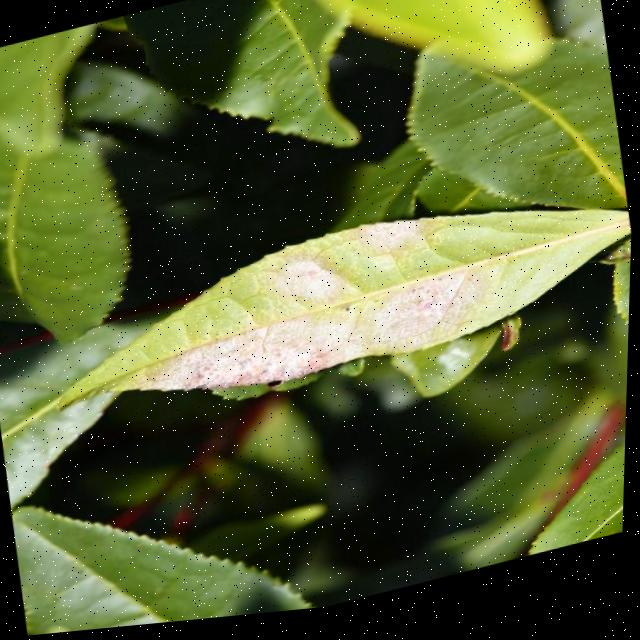Tea exobasidium blight: (143, 211, 482, 414)
